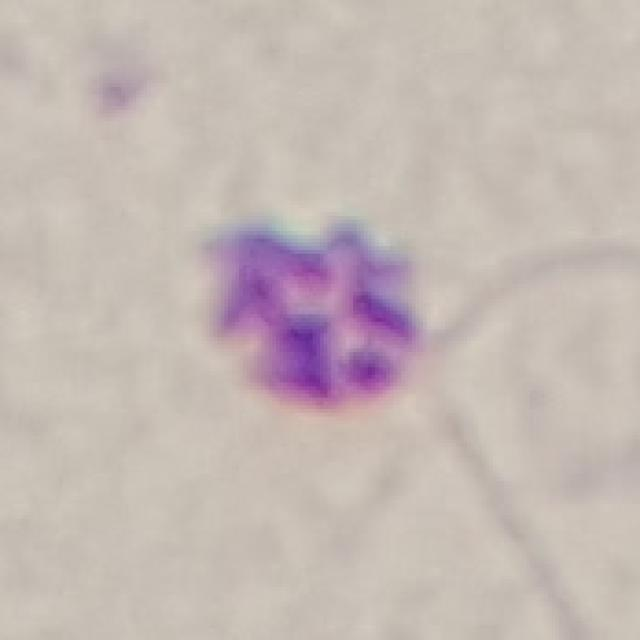non-sperm: (194, 213, 425, 424)
